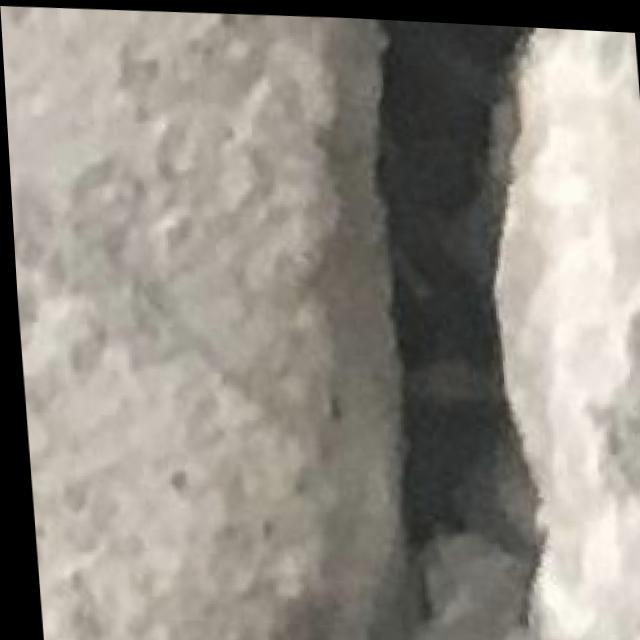Crack: (349, 14, 571, 640)
